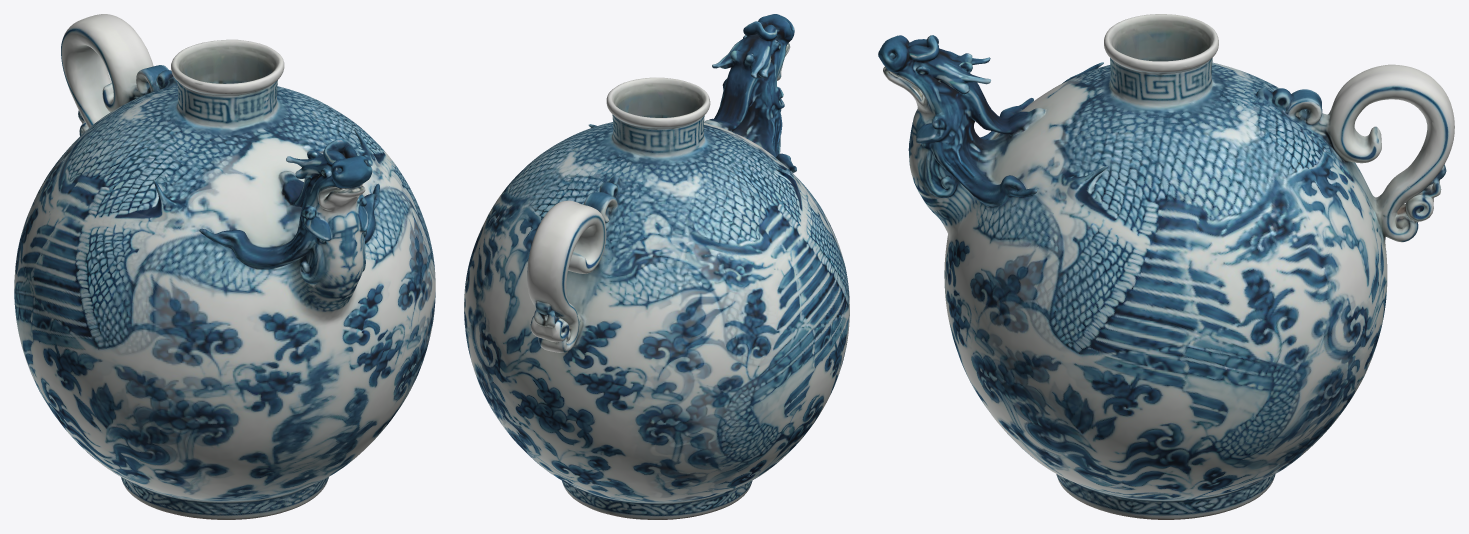
3 views of the same model, side by side, from view 1: azimuth 30°, elevation 25°; view 2: azimuth 150°, elevation 25°; view 3: azimuth 270°, elevation 25° (orthographic). The views are drawn at different scales.
Parts seen in each view (by area): view 1: tripo_node_c464819c-1ab5-4d43-ba8e-51256b2c84be; view 2: tripo_node_c464819c-1ab5-4d43-ba8e-51256b2c84be; view 3: tripo_node_c464819c-1ab5-4d43-ba8e-51256b2c84be.
Part boxes in pixels (x1=…): tripo_node_c464819c-1ab5-4d43-ba8e-51256b2c84be: x1=14, y1=14, x2=435, y2=519; tripo_node_c464819c-1ab5-4d43-ba8e-51256b2c84be: x1=464, y1=14, x2=849, y2=519; tripo_node_c464819c-1ab5-4d43-ba8e-51256b2c84be: x1=878, y1=14, x2=1454, y2=519.
Size of the model in its own units: 0.7704 by 0.8428 by 0.9999.
Materials: 1 (1 with a texture image).
